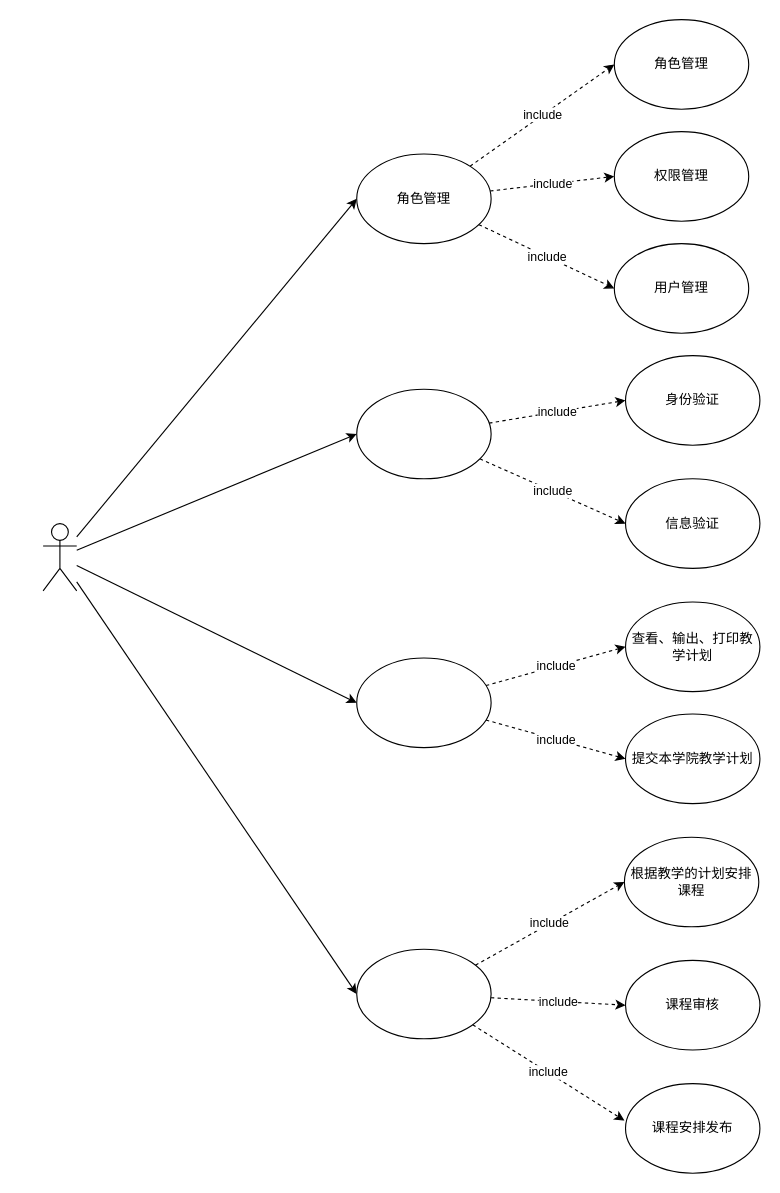
The diagram is 780 pixels wide and 1193 high, and some of its shapes have lost their labels. Here are the shapes that lost their labels. From the top down, the centre of each, then its label:
pixel 423 433: 登陆系统
pixel 59 556: 学院教学主管
pixel 423 702: 教学计划管理
pixel 423 993: 课程安排管理
